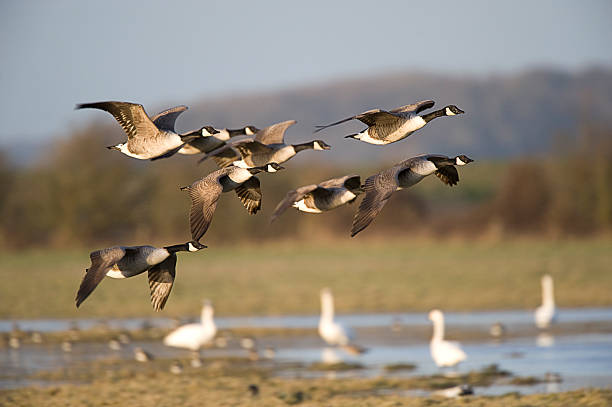goose: (350, 152, 476, 238), (72, 239, 208, 313), (72, 99, 222, 161), (185, 162, 286, 241), (311, 97, 466, 146), (212, 119, 333, 175), (269, 172, 373, 226), (156, 295, 221, 366), (425, 306, 470, 370), (179, 123, 262, 157), (315, 287, 353, 348), (531, 271, 564, 335)
